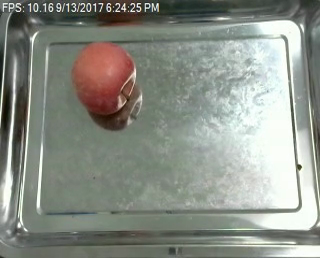Apple: (68, 42, 139, 119)
